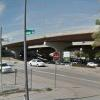Car: (29, 54, 50, 70)
